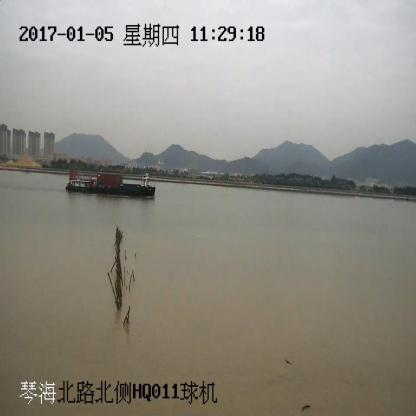Container Ship: (66, 169, 155, 199)
